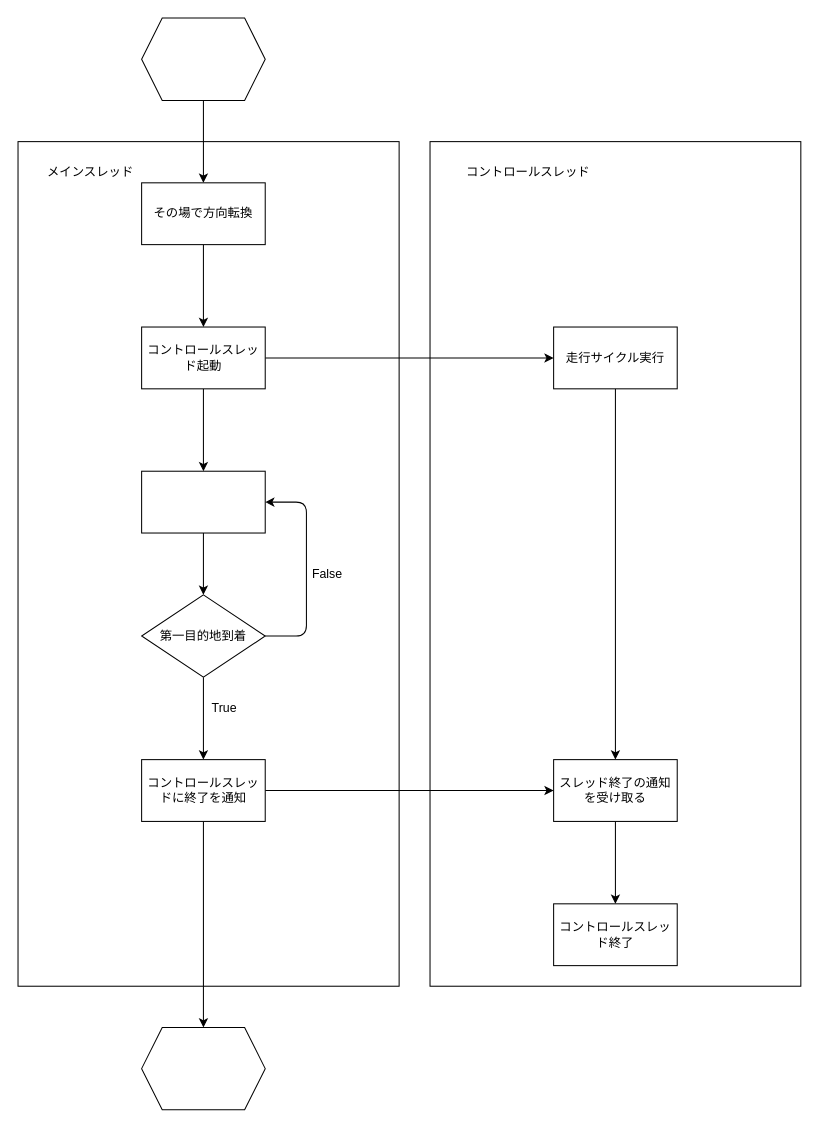
Image size: 819x1128. Some labels were removed from this diagram. Each missing label, with the box of its shape:
GPSから位置情報取得: (141, 470, 265, 533)
パラ分離ノード: (141, 17, 265, 100)
子機分離ノードへ: (141, 1026, 265, 1110)
